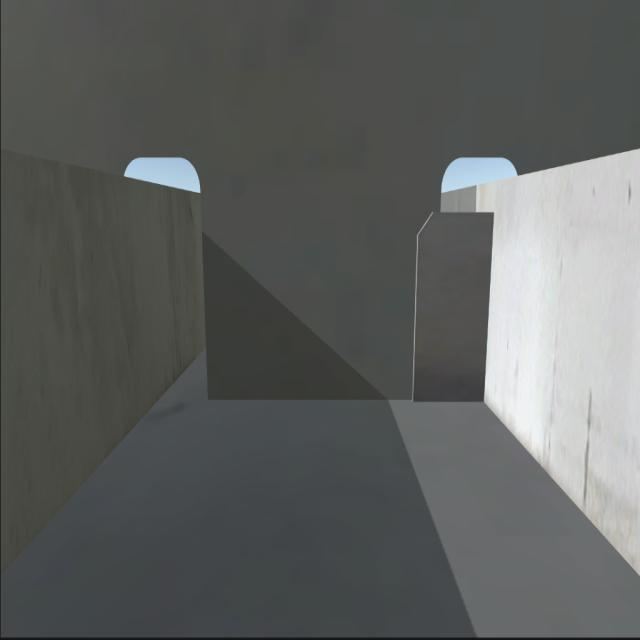fillet_yong_jeop_jang: (203, 392, 483, 408)
longi_yong_jeop_jang: (480, 200, 495, 409)
plate_CP03: (408, 204, 496, 398)
